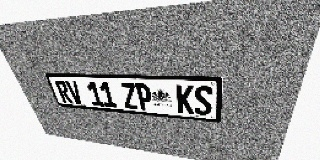1: (97, 82, 117, 108), (85, 81, 104, 106)
K: (176, 85, 194, 114)
P: (134, 83, 153, 111)
R: (54, 80, 74, 104)
S: (194, 85, 213, 116)
V: (65, 81, 84, 105)
Z: (120, 83, 139, 109)
